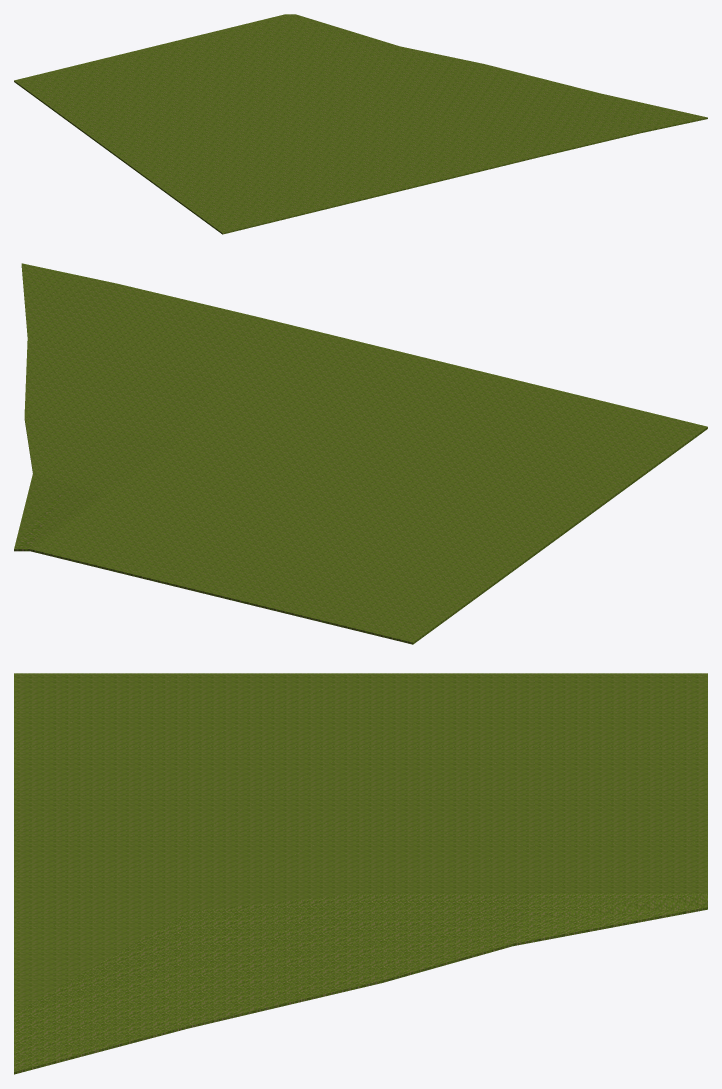
The picture shows the model from 3 angles, top to bottom: view 1: azimuth 30°, elevation 25°; view 2: azimuth 150°, elevation 25°; view 3: azimuth 270°, elevation 25°; orthographic projection. The views are drawn at different scales.
Parts seen in each view (by area): view 1: d1_base_plate-col; view 2: d1_base_plate-col; view 3: d1_base_plate-col.
Part boxes in pixels (box(x1,y1,x2,y2)): d1_base_plate-col: box(14, 14, 707, 234); d1_base_plate-col: box(14, 263, 707, 644); d1_base_plate-col: box(14, 673, 707, 1074).
Bounding box in the file's own units: 344 × 2.92 × 256.
1 material, 1 textured.
